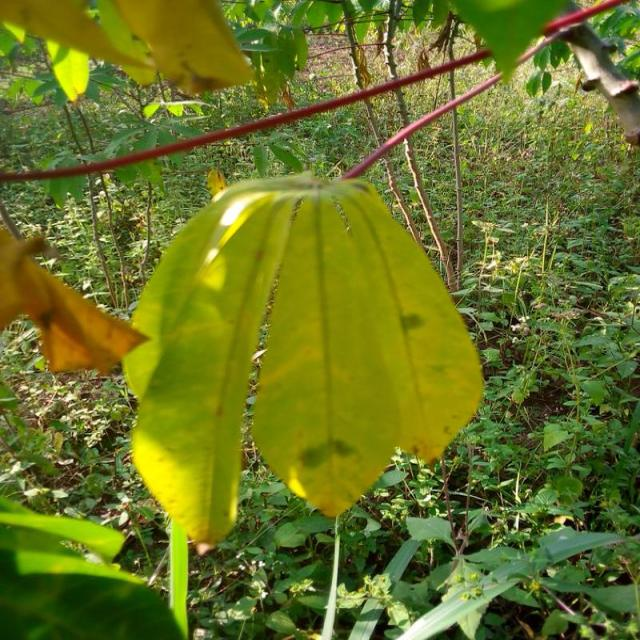cassava leaf: (122, 171, 486, 546)
